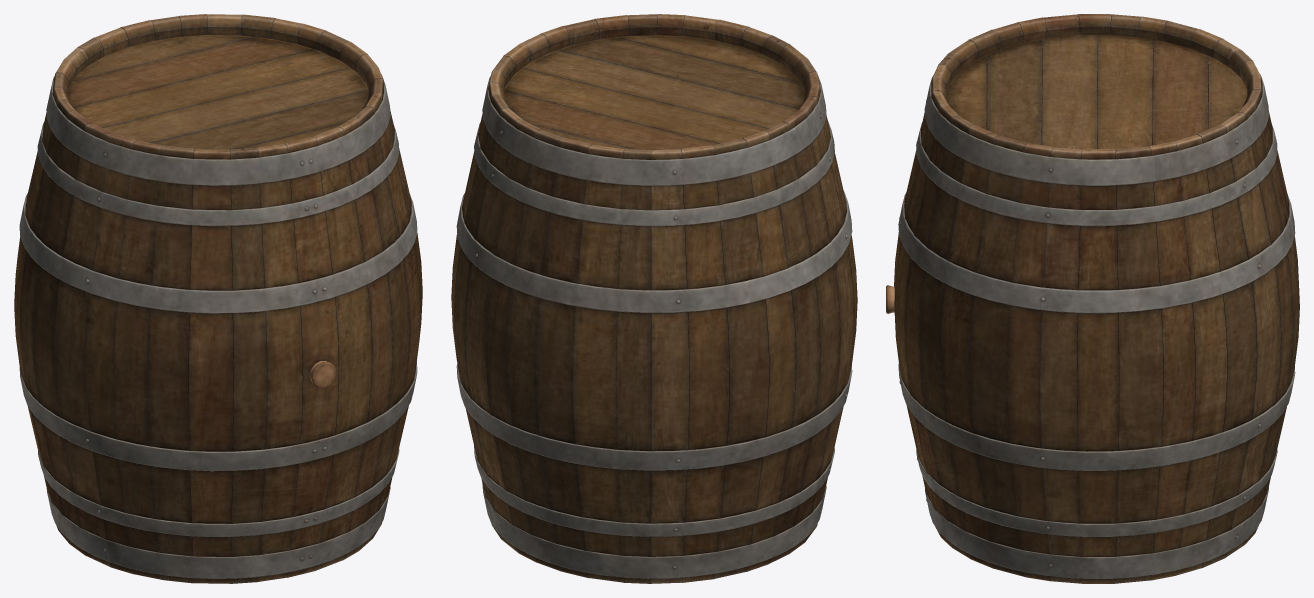
Rendered from wine_barrel_01.glb.
3 views of the same model, side by side, from view 1: azimuth 30°, elevation 25°; view 2: azimuth 150°, elevation 25°; view 3: azimuth 270°, elevation 25° (orthographic).
Visible parts, largest first — view 1: wine_barrel_01_Lid; view 2: wine_barrel_01_Lid; view 3: wine_barrel_01_Lid.
Part boxes in pixels (x1,y1,x2,y2): wine_barrel_01_Lid: (14, 14, 422, 583); wine_barrel_01_Lid: (451, 14, 857, 583); wine_barrel_01_Lid: (886, 14, 1299, 583).
Size of the model in its own units: 0.7419 by 0.8713 by 0.7561.
Materials: 1 (1 with a texture image).
